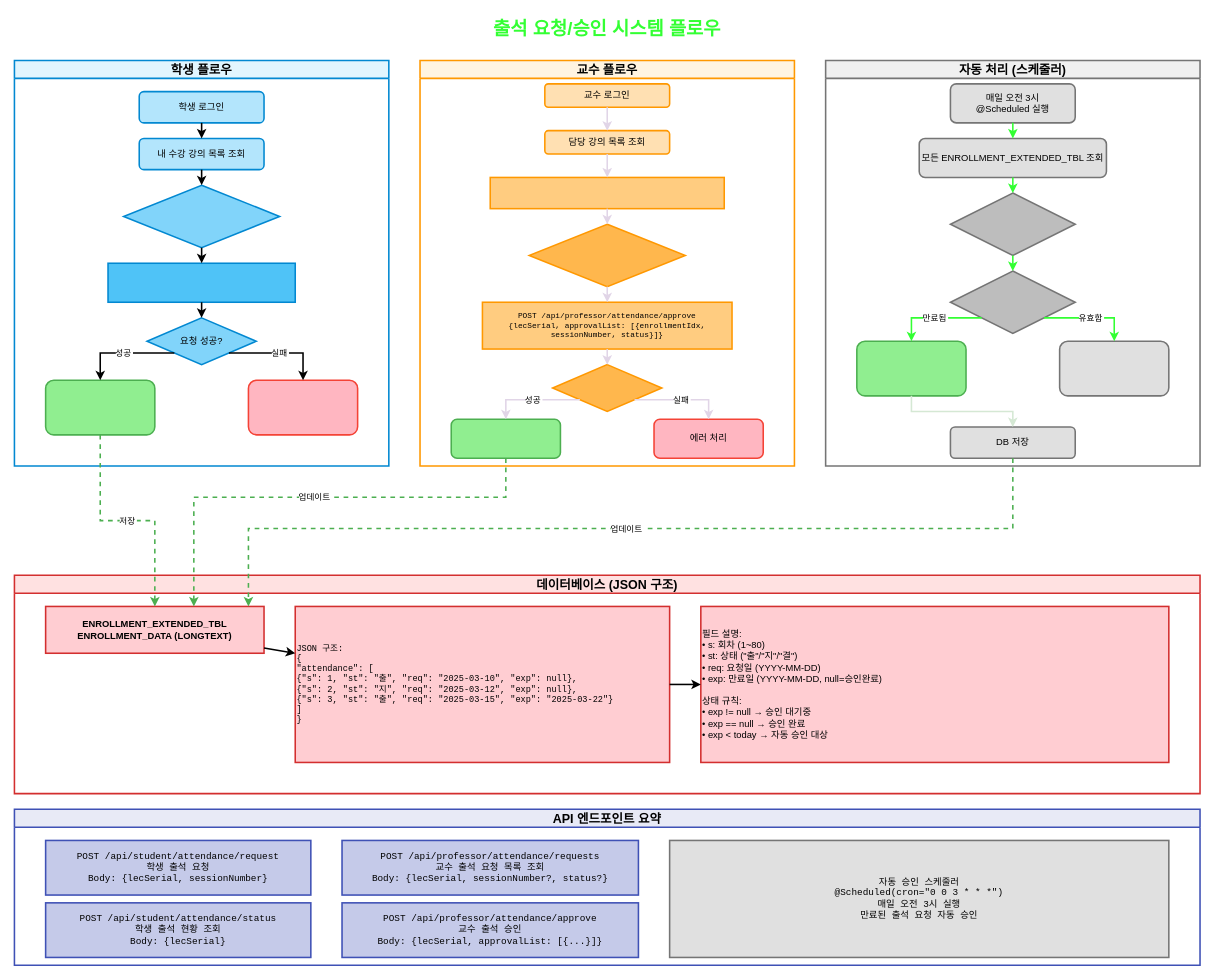
Image size: 1214x979. Some labels were removed from this diagram. Each missing label, with the centre of its shape:
exp != null && exp < today?: (x=1012, y=302)
exp = null 설정 승인 완료 상태: (x=505, y=438)
exp 필드 확인: (x=1012, y=224)
POST /api/professor/attendance/requests {lecSerial, sessionNumber, status}: (x=607, y=192)
POST /api/student/attendance/request {lecSerial, sessionNumber}: (x=201, y=282)
승인 성공?: (x=606, y=387)
에러 메시지 (중복/잘못된 회차): (x=302, y=407)
임시 승인 상태 출석으로 기록 유효기간: 7일: (x=99, y=407)
자동 승인 처리 exp = null st = '출' 유지: (x=911, y=368)
처리 안함 대기 유지: (x=1113, y=368)
출석 요청할 회차 선택 (1~80회 중): (x=201, y=216)
학생별 출석 상태 결정 (출/지/결 선택): (x=607, y=255)
